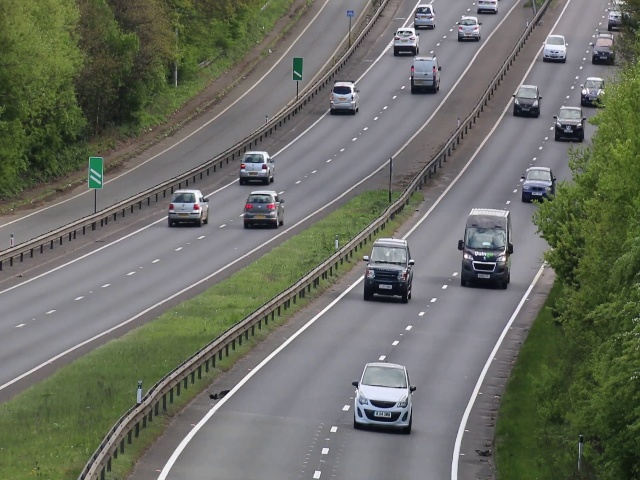car: (349, 361, 414, 432), (461, 208, 511, 286), (366, 235, 413, 303), (241, 190, 288, 227), (166, 186, 209, 226), (520, 165, 556, 201), (239, 149, 276, 184), (411, 54, 441, 94), (555, 104, 585, 144), (327, 79, 360, 115), (511, 83, 543, 120), (579, 74, 606, 107), (541, 33, 570, 63), (394, 26, 419, 55), (456, 16, 481, 41), (414, 3, 435, 30)
